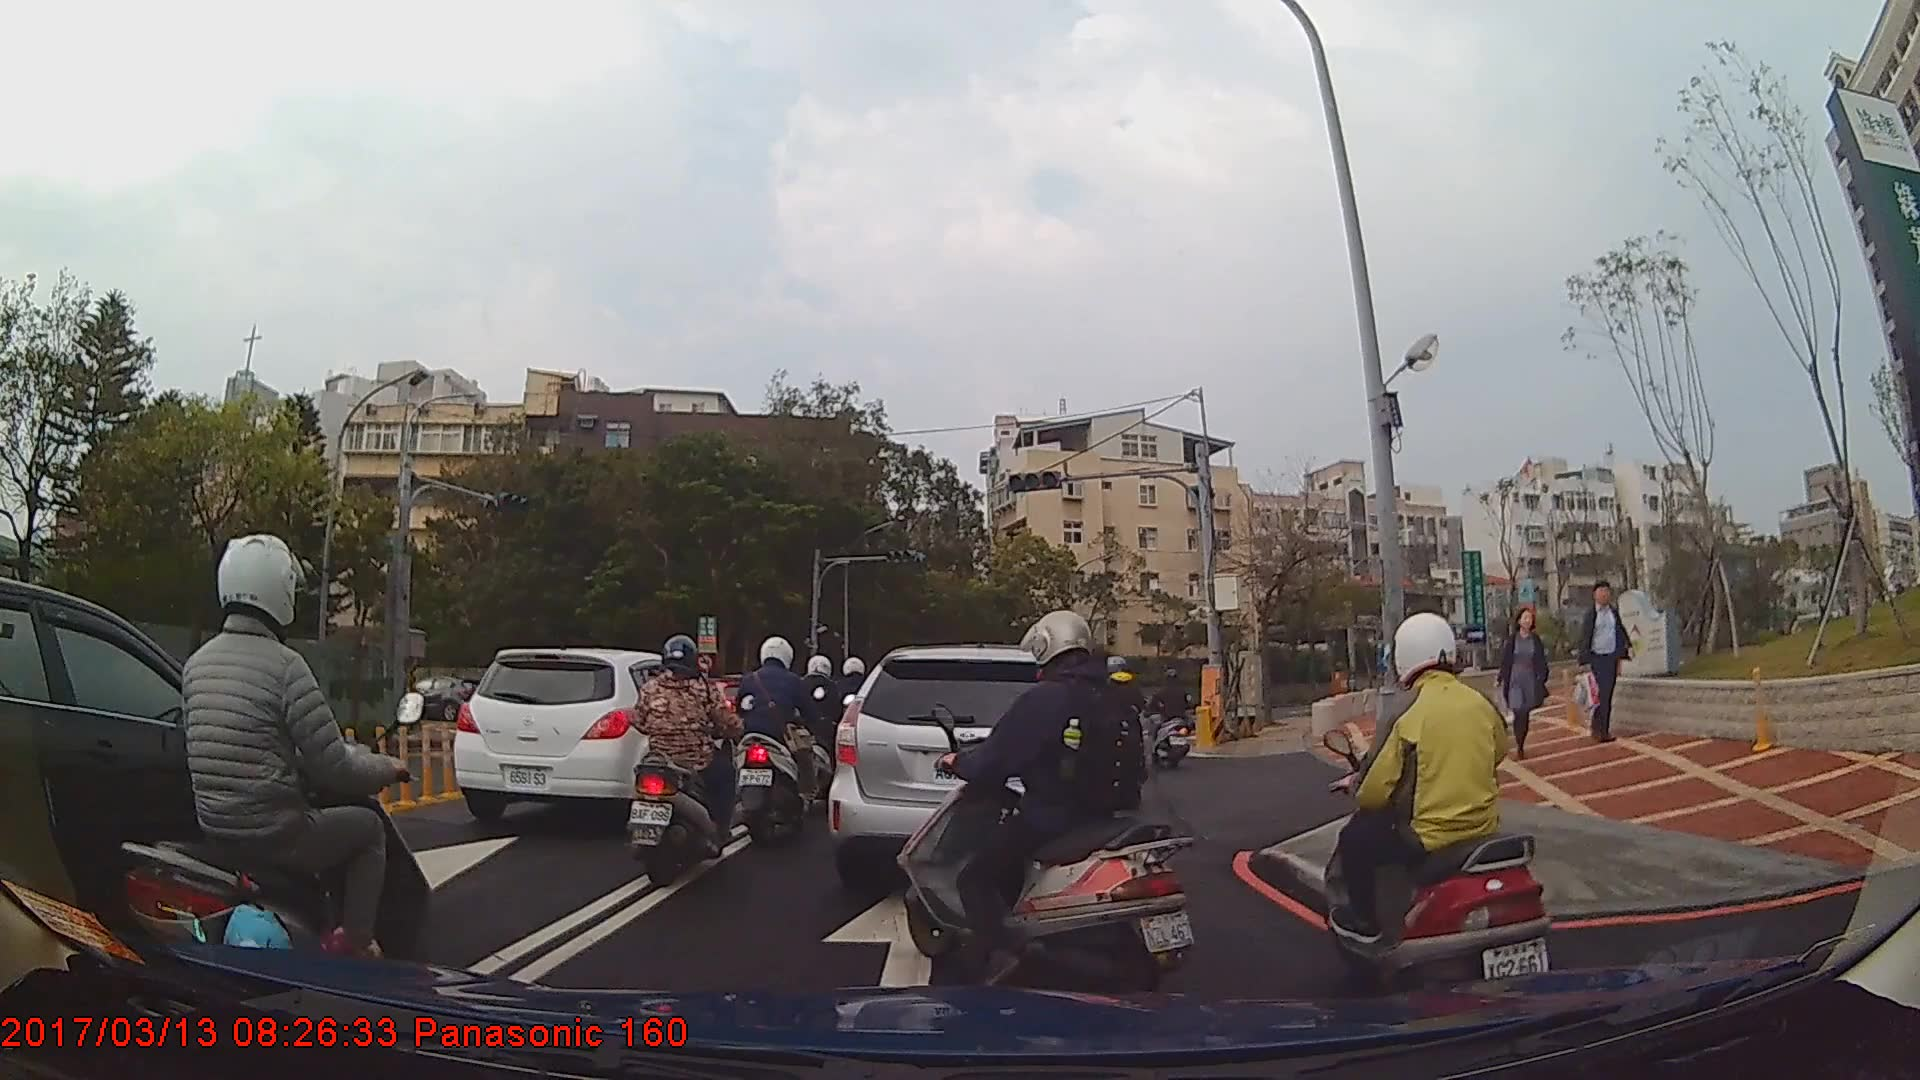pedestrian: (1488, 612, 1555, 771), (1578, 582, 1640, 744)
rider: (104, 532, 435, 1036), (897, 610, 1199, 1001), (1317, 611, 1547, 1023), (626, 636, 745, 890), (729, 634, 830, 844), (798, 656, 853, 800), (1144, 673, 1196, 762)
vehicle: (0, 575, 364, 955), (827, 642, 1118, 898), (449, 646, 733, 825), (395, 674, 484, 722)
